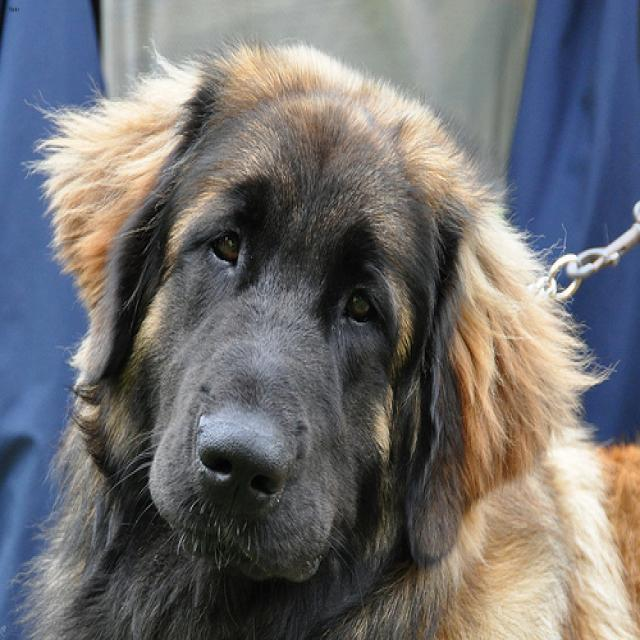dog-leonberger: (1, 23, 637, 637)
